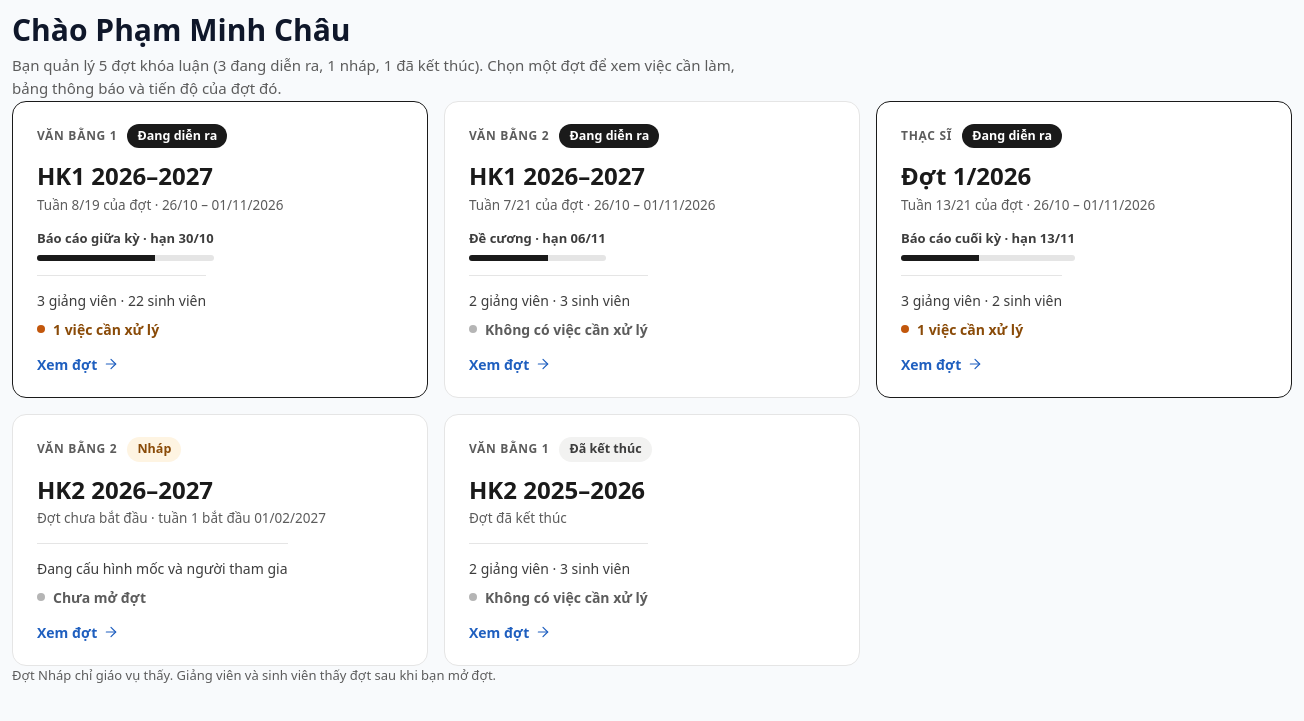
Scenario: opens the round detail from a card and goes back to all rounds
Click the button with aria-label "Mở đợt Văn bằng 1 HK1 2026–2027": click(77, 135) [12,100,428,398]
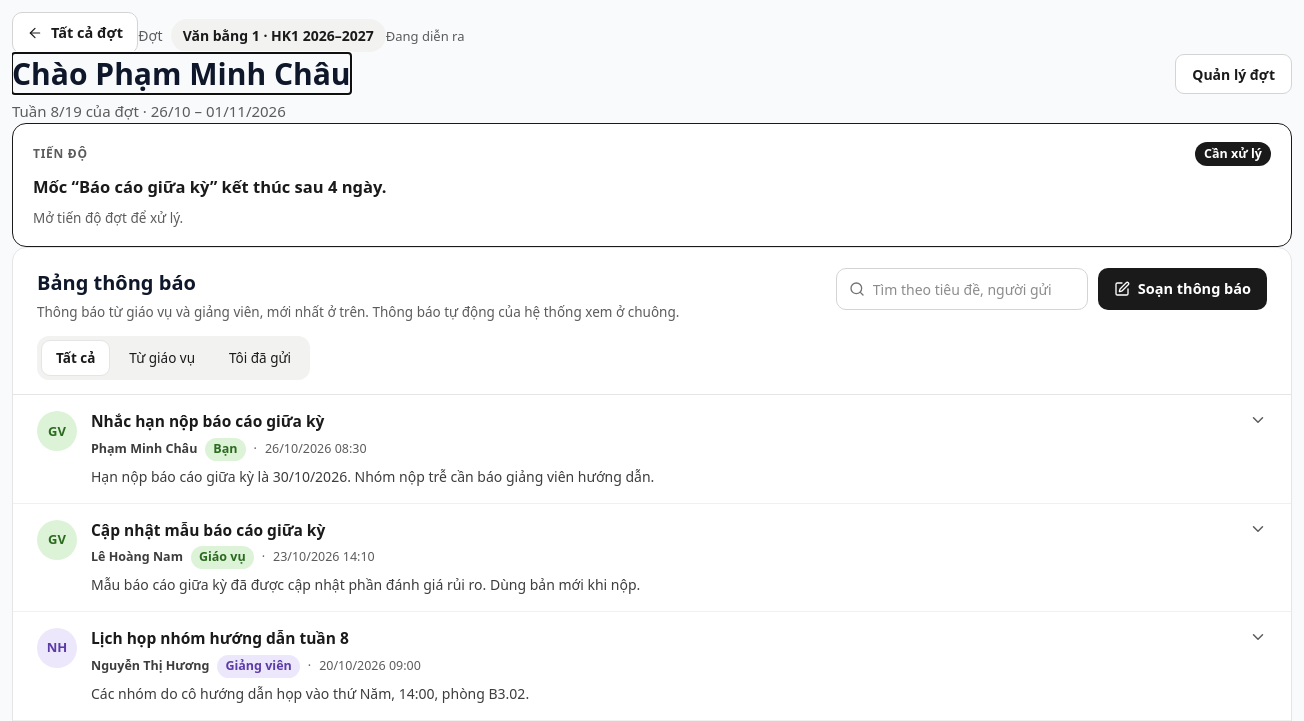
Check: the element named "Việc sắp đến hạn" is shown, box [12,122,1292,247]
Check: the text "Đợt" is shown, box [138,26,163,45]
Click the button "Tất cả đợt": click(75, 33) [12,12,138,54]
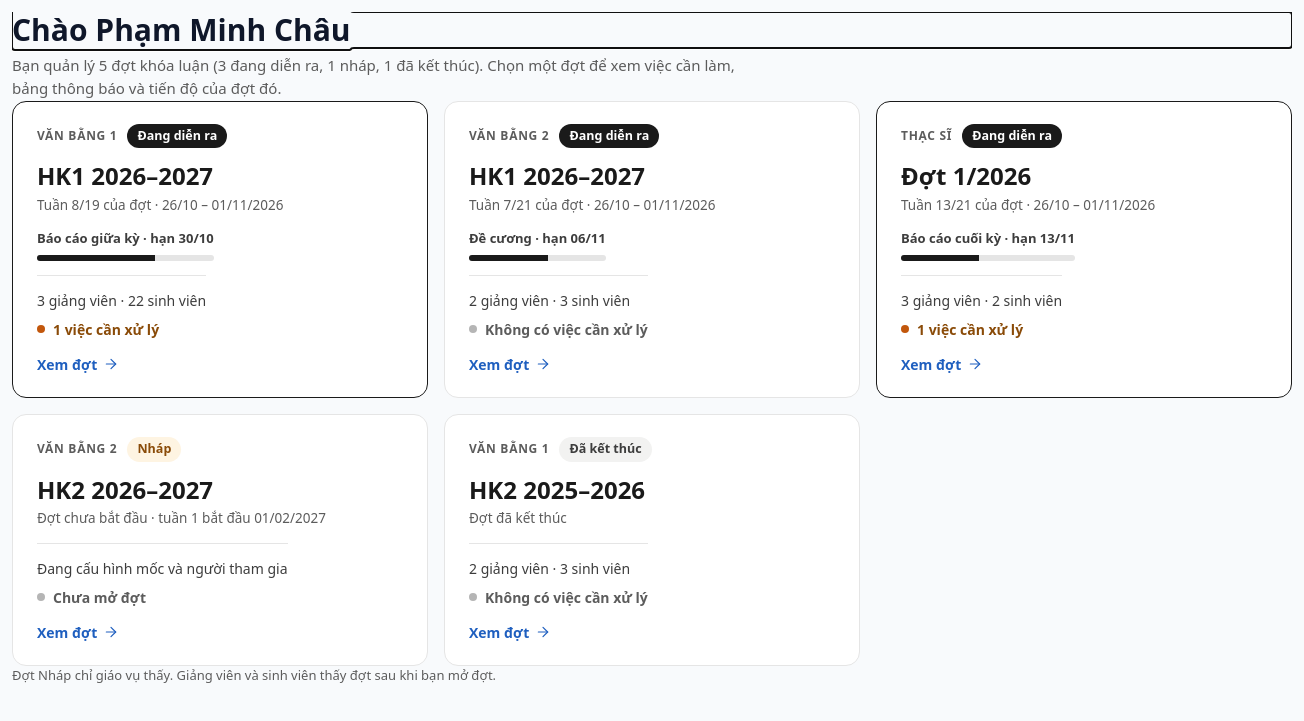
Check: the button with aria-label "Mở đợt Thạc sĩ Đợt 1/2026" is shown, box [876,100,1292,398]
